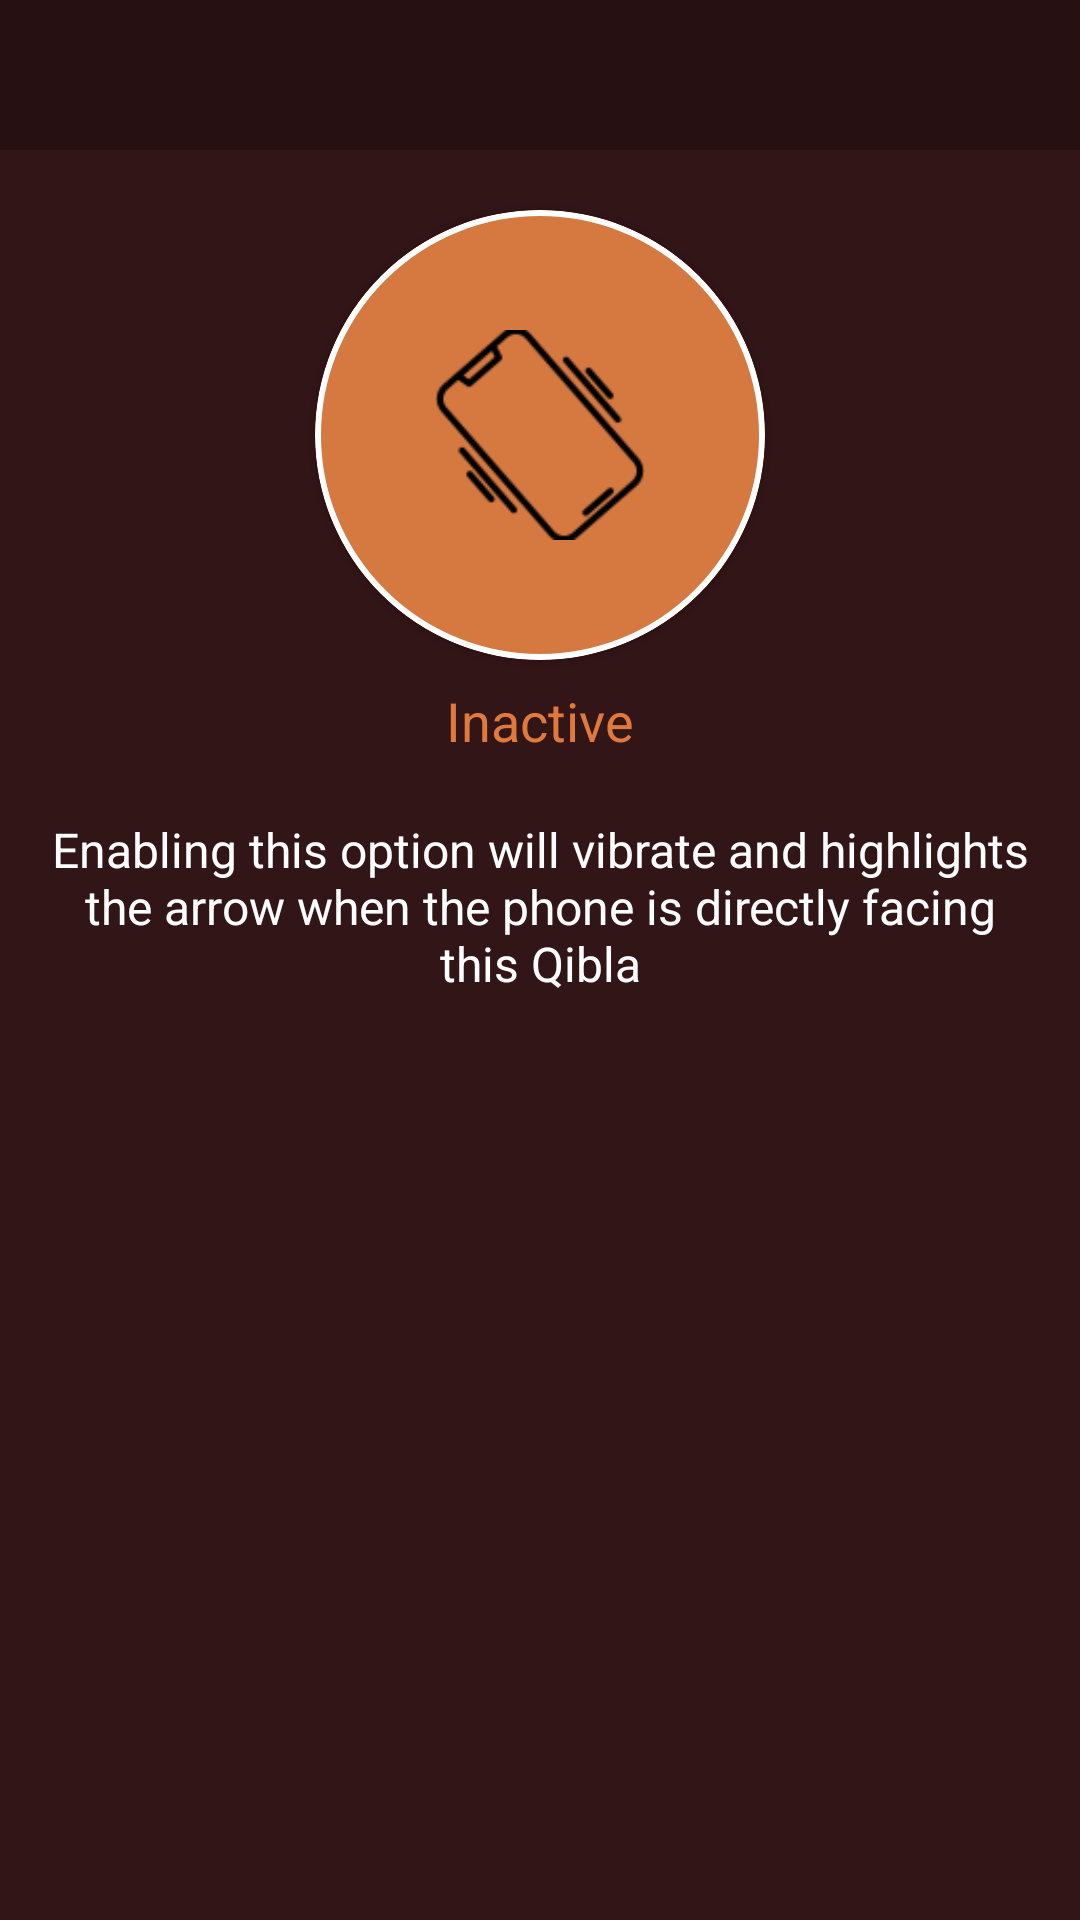

Icon click points for this 1080 x 1920 phone screenshot, format (x=x, y=y):
vibration: (x=540, y=435)
